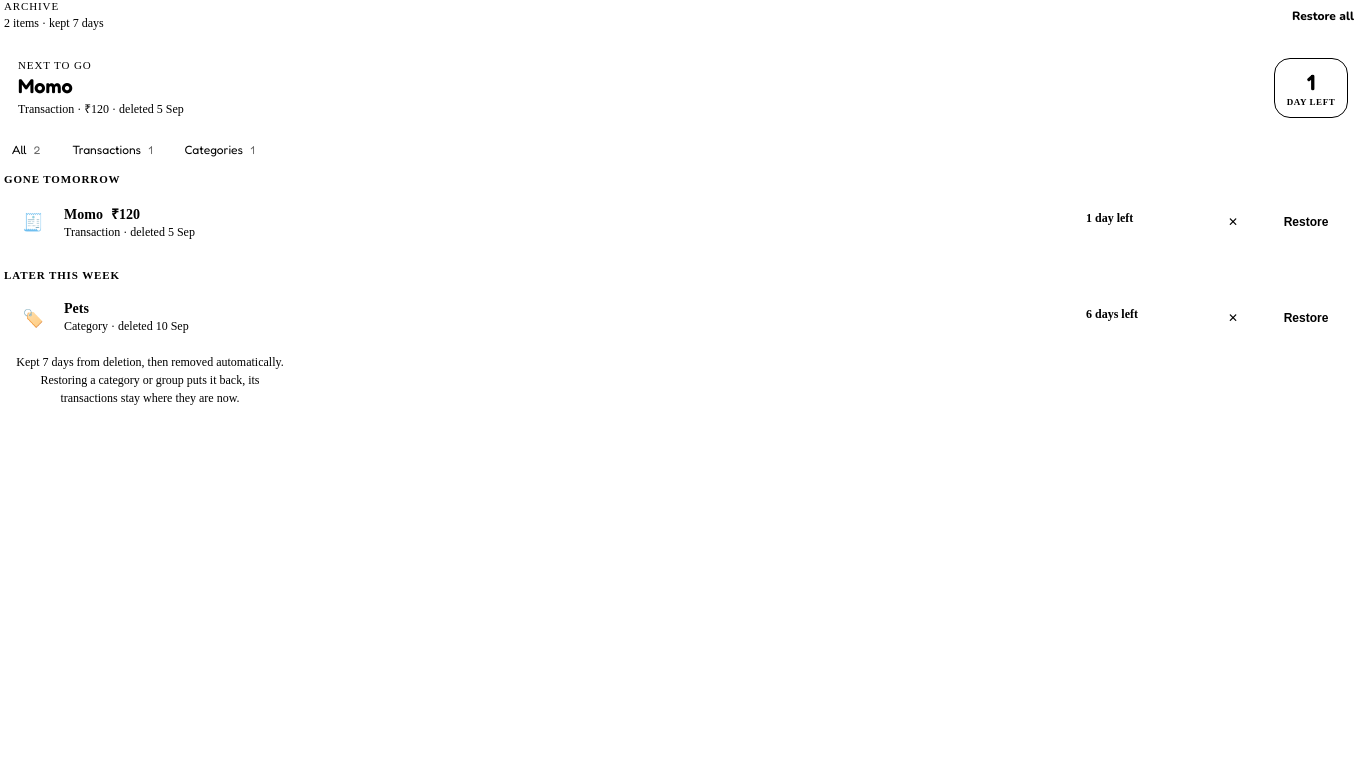
orders by purge date, and restore all keeps what collided
The image size is (1366, 768).
Check: the list item that starts with "Gone tomorrow" is shown, box [4, 173, 120, 185]
Check: the list item that starts with "Gone tomorrow" shows "Momo", box [64, 206, 103, 222]
Click the button "Restore all".
click(1323, 16)  # box [1280, 1, 1365, 31]
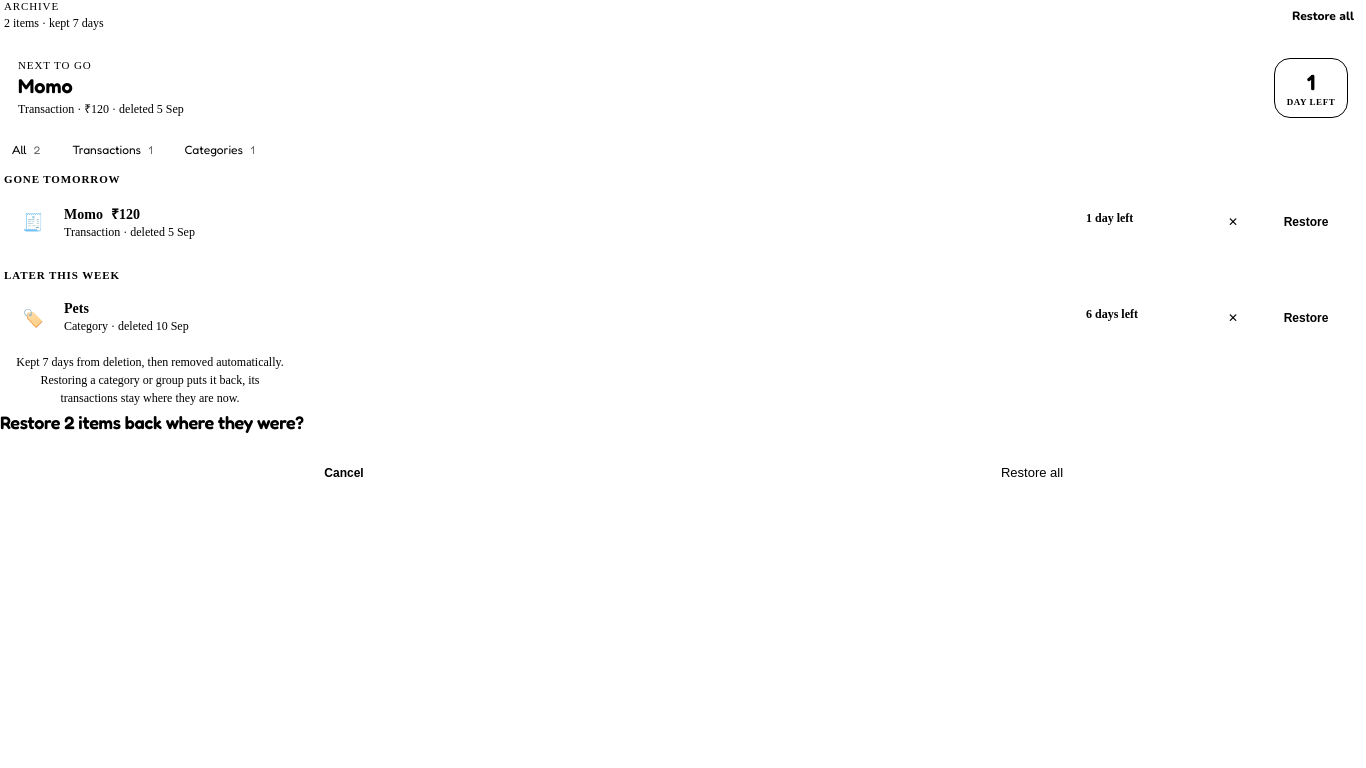
Click the 2nd button "Restore all".
click(1032, 473)  # box [698, 452, 1365, 494]
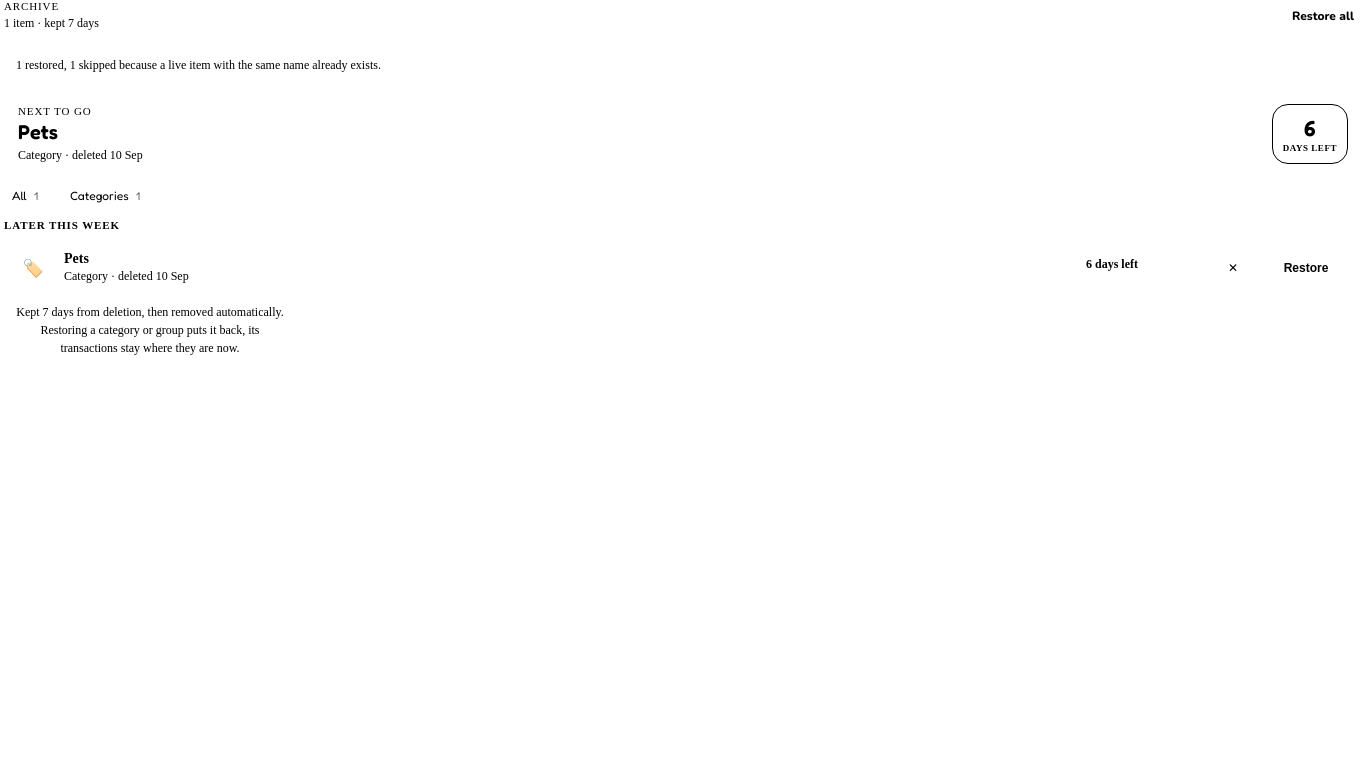
Check: the text "Pets" below "Later this week" is shown, box [64, 251, 89, 266]
Check: the message shows "1 restored, 1 skipped", box [16, 58, 381, 72]
Check: the text "Momo" is gone
